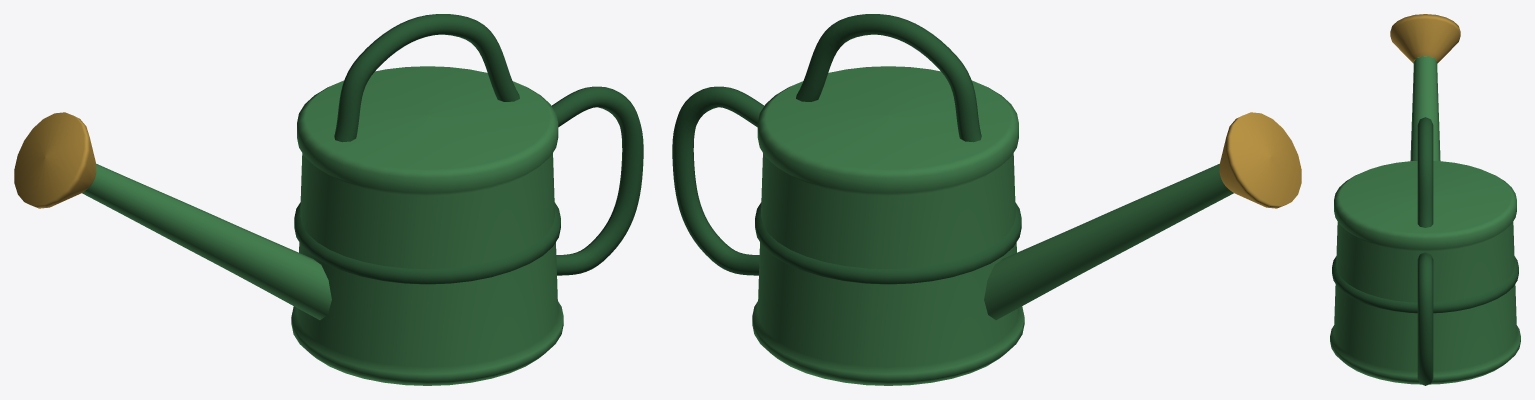
The model's file is konewka.glb.
The picture shows the model from 3 angles, left to right: view 1: azimuth 30°, elevation 25°; view 2: azimuth 150°, elevation 25°; view 3: azimuth 270°, elevation 25°; orthographic projection. The views are drawn at different scales.
Visible parts, largest first — view 1: Konewka; view 2: Konewka; view 3: Konewka.
Boxes of the visible parts, x1,y1,x2,y2 form: Konewka: (14, 14, 643, 385); Konewka: (672, 14, 1301, 385); Konewka: (1330, 14, 1520, 385).
Size of the model in its own units: 0.5137 by 0.2513 by 0.196.
